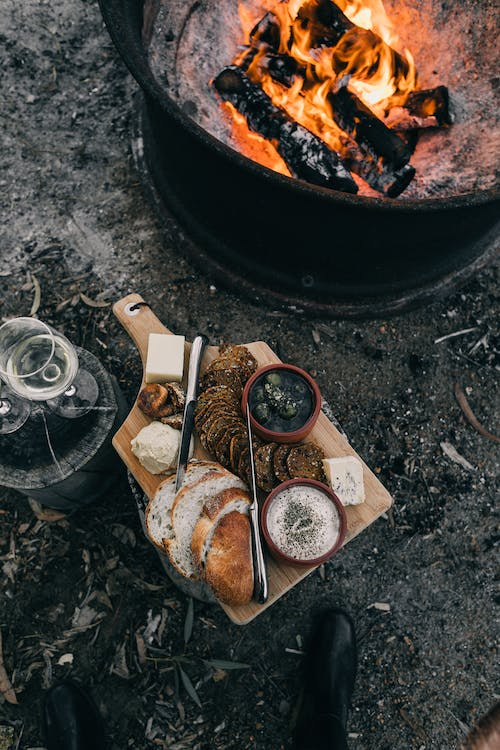alcohol: (0, 312, 103, 423)
knife: (169, 331, 212, 497), (241, 399, 273, 607)
